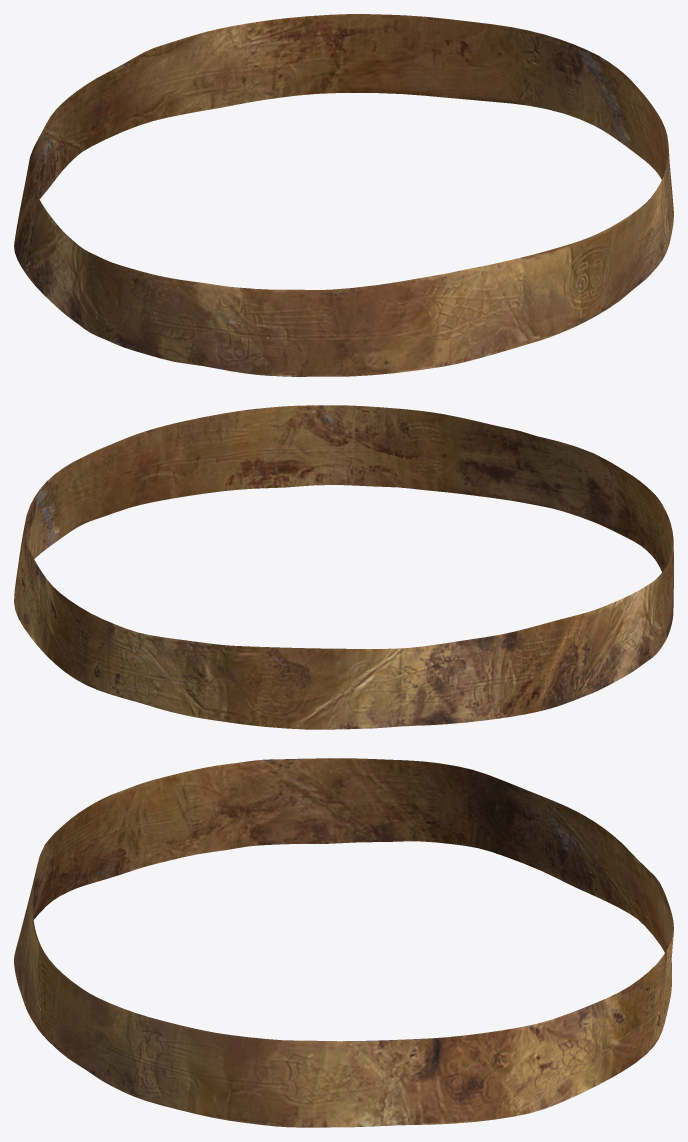
3 views of the same model, one above another, from view 1: azimuth 30°, elevation 25°; view 2: azimuth 150°, elevation 25°; view 3: azimuth 270°, elevation 25° (orthographic). The views are drawn at different scales.
Parts seen in each view (by area): view 1: 2sz; view 2: 2sz; view 3: 2sz.
Part boxes in pixels (bbox=[...]): 2sz: bbox=[14, 14, 673, 376]; 2sz: bbox=[14, 405, 673, 729]; 2sz: bbox=[14, 758, 673, 1127].
Size of the model in its own units: 38.44 by 5.71 by 36.53.
